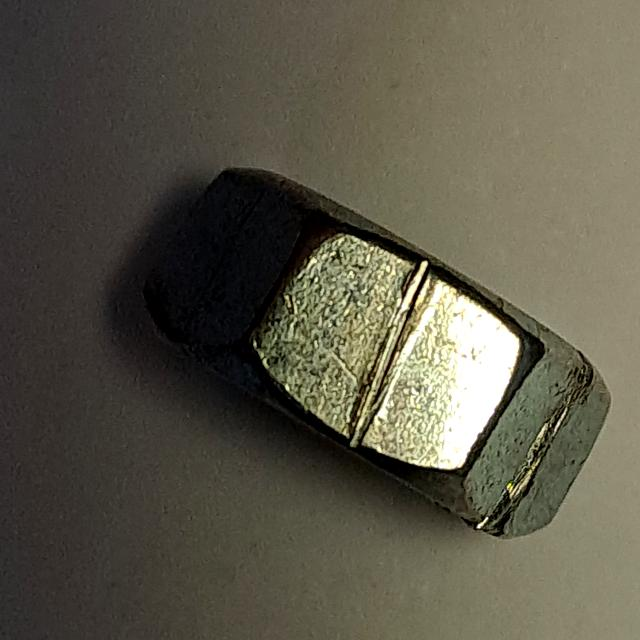Side_Scratches: (132, 156, 629, 555)
